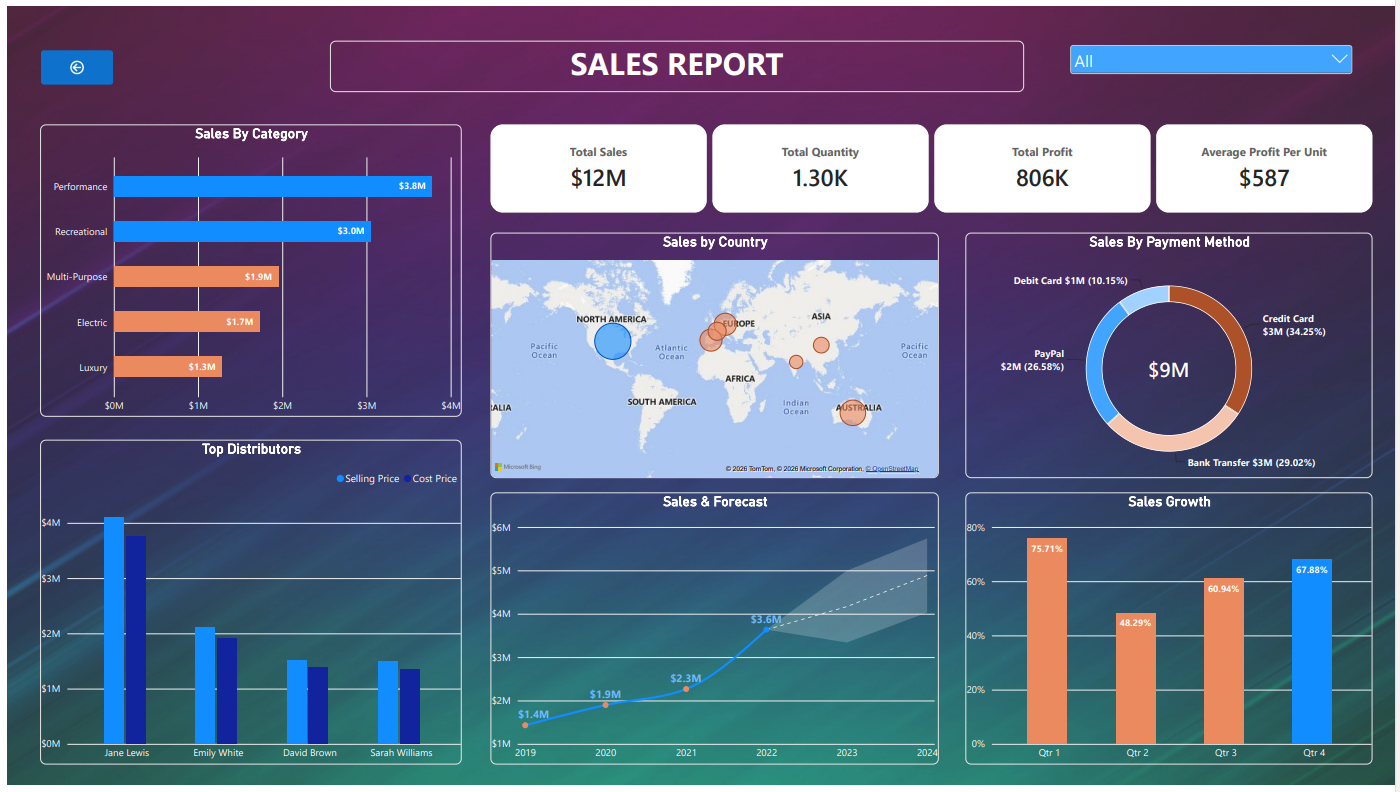

What the dashboard file says about the page in this screenshot:
{"tool":"powerbi","page":{"name":"Sales","canvas":[1920,1080],"ordinal":0},"visuals":[{"type":"textbox","box":[446,47.3,959.5,71],"z":0},{"type":"cardVisual","fields":{"Data":["Sum(Sales.Sales($))","Sum(Sales.QuantitySold )","Sum(Sales.Profit)","Avg(Sales.ProfitPerUnit)"]},"box":[667.5,162.5,1220,122.5],"z":1000},{"type":"barChart","title":"Sales By Category","fields":{"Category":["Category.Category Type"],"Y":["Sum(Sales.Sales($))"]},"box":[45,162.5,582.5,405],"z":2000},{"type":"clusteredColumnChart","title":"Top Distributors","fields":{"Category":["Distributor.FullName"],"Y":["Sum(Sales.Sales($))","Sum(Sales.TotalProductionCost)"]},"box":[45,600,582.5,450],"z":3000},{"type":"clusteredColumnChart","title":"Sales Growth","fields":{"Category":["Sales.Date       .Variation.Date Hierarchy.Year","Sales.Date       .Variation.Date Hierarchy.Quarter","Sales.Date       .Variation.Date Hierarchy.Month","Sales.Date       .Variation.Date Hierarchy.Day"],"Y":["Sales.Sales($) YoY%"]},"box":[1325,672.5,562.5,377.5],"z":4000},{"type":"lineChart","title":"Sales & Forecast","fields":{"Category":["Sales.Date       .Variation.Date Hierarchy.Year","Sales.Date       .Variation.Date Hierarchy.Quarter","Sales.Date       .Variation.Date Hierarchy.Month","Sales.Date       .Variation.Date Hierarchy.Day"],"Y":["Sum(Sales.Sales($))"]},"box":[667.5,672.5,620,377.5],"z":5000},{"type":"map","title":"Sales by Country","fields":{"Category":["Distributor.Country"],"Size":["Sum(Sales.Sales($))"]},"box":[667.5,312.5,620,340],"z":6000},{"type":"donutChart","title":"Sales By Payment Method","fields":{"Category":["Sales.Payment_Methods. PaymentMethod "],"Y":["Sum(Sales.Sales($))"]},"box":[1325,312.5,562.5,340],"z":7000},{"type":"slicer","fields":{"Values":["Sales.Date       .Variation.Date Hierarchy.Year"]},"box":[1465,47.5,400,70],"z":8000},{"type":"actionButton","box":[46,60,100,47.5],"z":9000}]}

Visuals, with their boxes in screenshot pixels (x1, y1, x2, y2), scaled from the page's 1920x1080 canvas onto the 1400x792 screenshot:
textbox: region(325, 35, 1025, 87)
cardVisual - Sum(Sales.Sales($)) x Sum(Sales.QuantitySold ): region(487, 119, 1376, 209)
"Sales By Category" barChart: region(33, 119, 458, 416)
"Top Distributors" clusteredColumnChart: region(33, 440, 458, 770)
"Sales Growth" clusteredColumnChart: region(966, 493, 1376, 770)
"Sales & Forecast" lineChart: region(487, 493, 939, 770)
"Sales by Country" map: region(487, 229, 939, 478)
"Sales By Payment Method" donutChart: region(966, 229, 1376, 478)
slicer - Sales.Date       .Variation.Date Hierarchy.Year: region(1068, 35, 1360, 86)
actionButton: region(34, 44, 106, 79)
